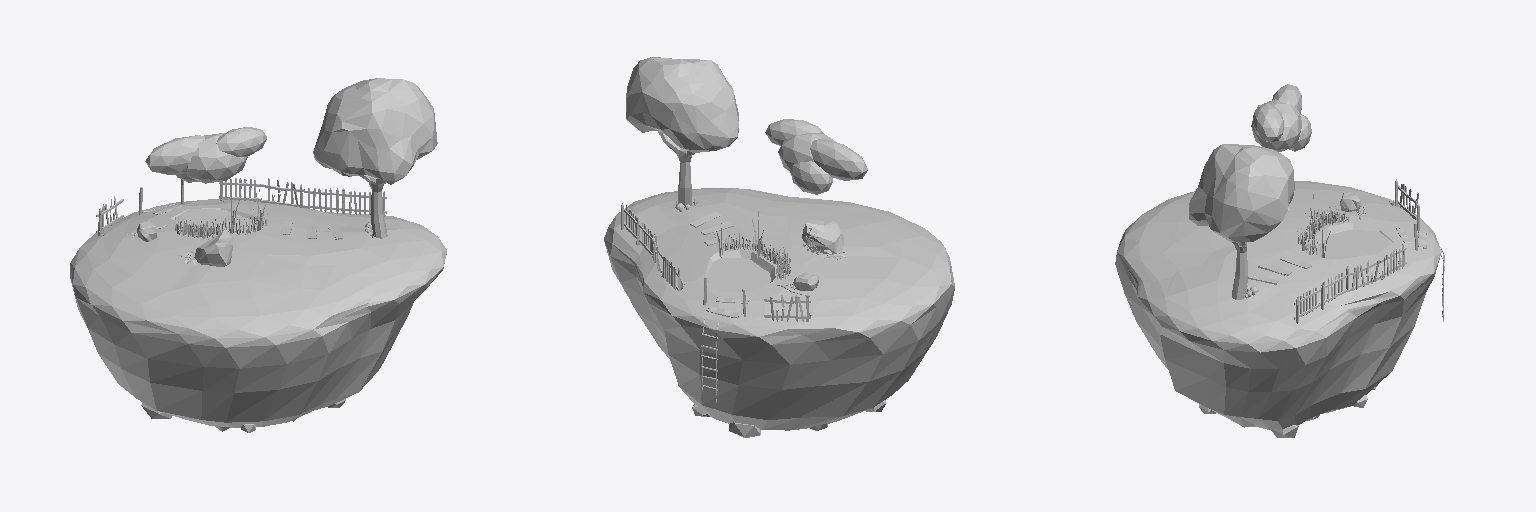
The model's file is flyingIsland.obj.
3 views of the same model, side by side, from view 1: azimuth 30°, elevation 25°; view 2: azimuth 150°, elevation 25°; view 3: azimuth 270°, elevation 25° (orthographic).
Visible parts, largest first — view 1: FlyingIsland; view 2: FlyingIsland; view 3: FlyingIsland.
Part boxes in pixels (left/top/right/bottom): FlyingIsland: left=70, top=78, right=446, bottom=432; FlyingIsland: left=604, top=57, right=954, bottom=437; FlyingIsland: left=1115, top=84, right=1444, bottom=437.
Size of the model in its own units: 23.52 by 21.55 by 20.32.